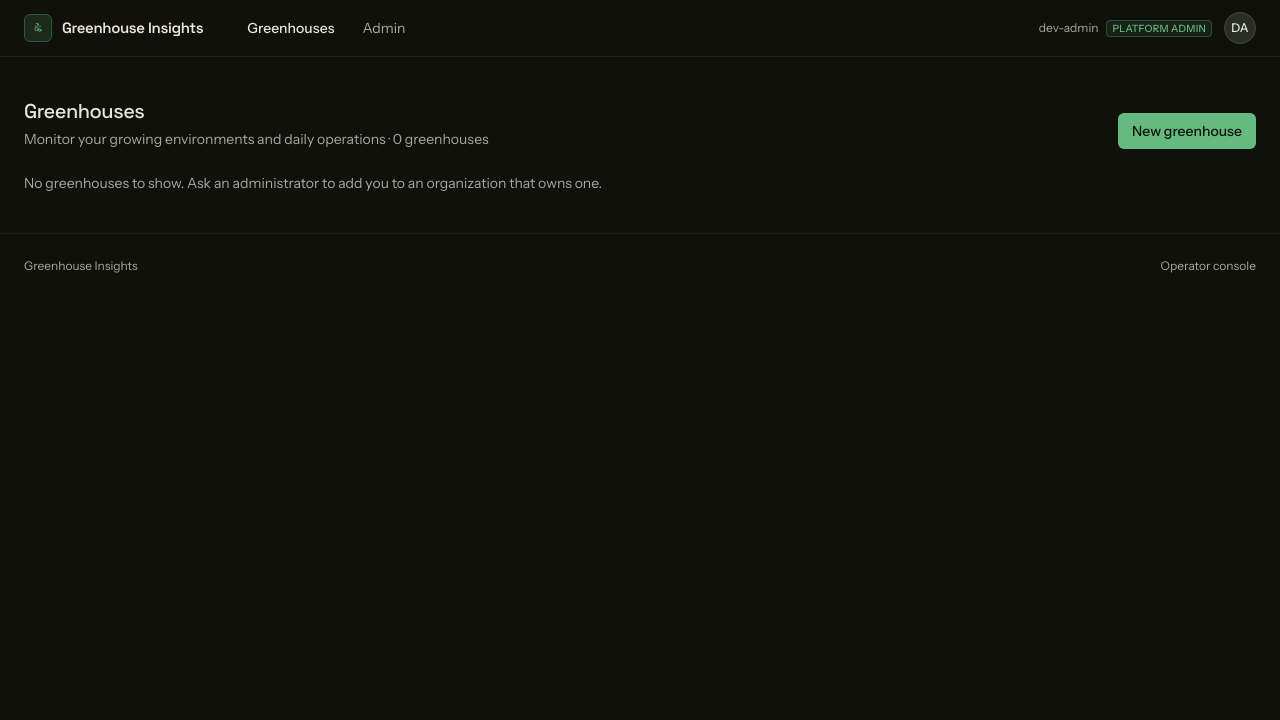
Test: App › signs out from the shell and returns to the login page
Expected: the element with test id "current-user" is shown, [1039,20,1212,36]
Click the button with aria-label "sign out" at (1240, 28), box [1224,12,1256,44]
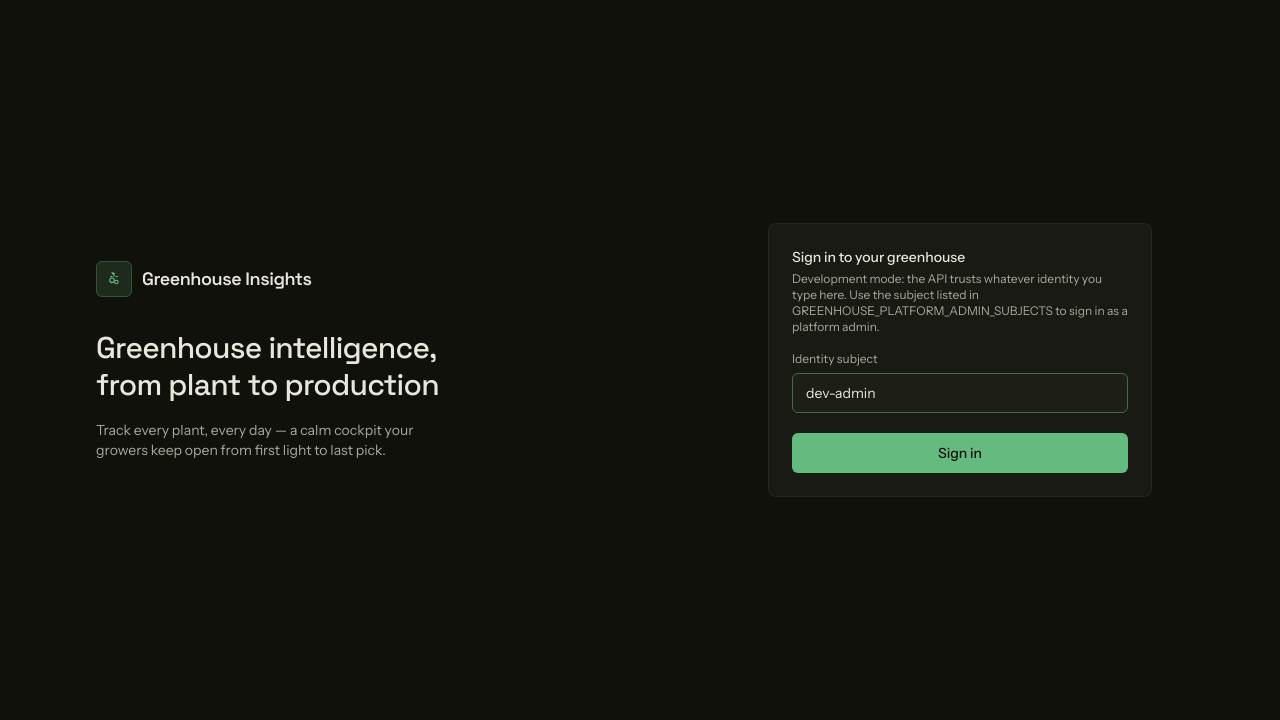
Result: the button "Sign in" is shown at [792,433,1128,473]
